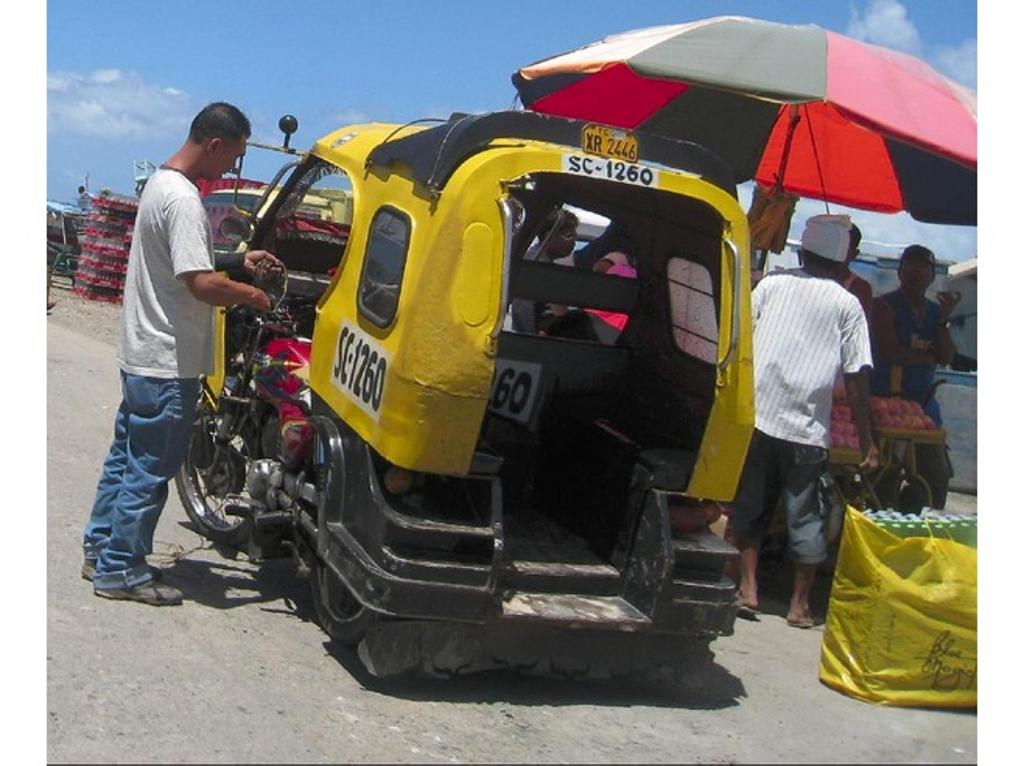face: (207, 126, 246, 180), (900, 254, 931, 290), (546, 217, 574, 256)
